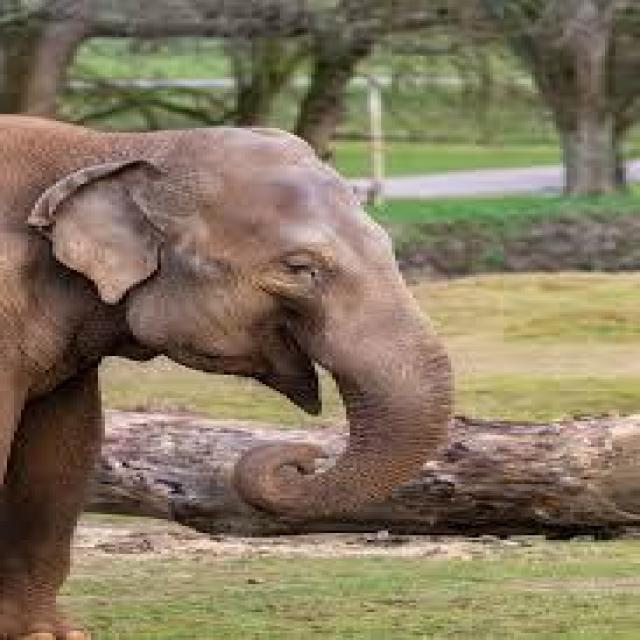Elephant: (0, 109, 462, 638)
